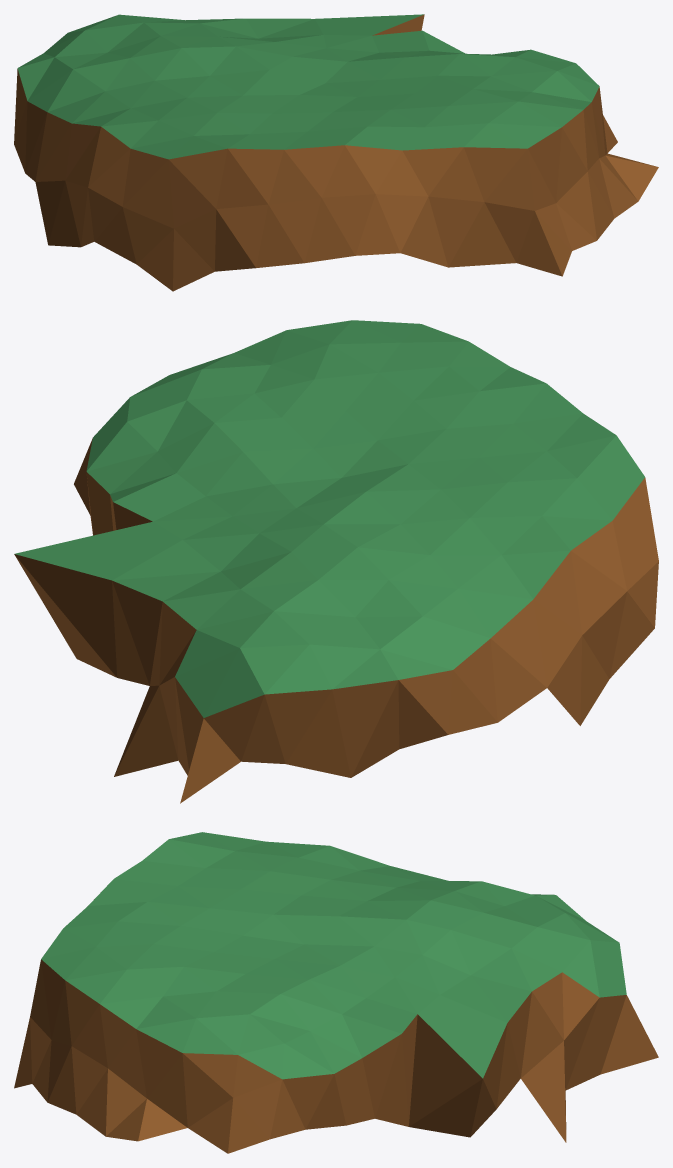
Rendered from big_forest_relief_1.fbx.
3 views of the same model, one above another, from view 1: azimuth 30°, elevation 25°; view 2: azimuth 150°, elevation 25°; view 3: azimuth 270°, elevation 25° (orthographic). The views are drawn at different scales.
Parts seen in each view (by area): view 1: Icosphere.244; view 2: Icosphere.244; view 3: Icosphere.244.
Boxes of the visible parts, x1=… form: Icosphere.244: x1=14, y1=14, x2=658, y2=291; Icosphere.244: x1=14, y1=320, x2=658, y2=803; Icosphere.244: x1=14, y1=832, x2=658, y2=1153.
Bounding box in the file's own units: 1810 × 699 × 2063.
